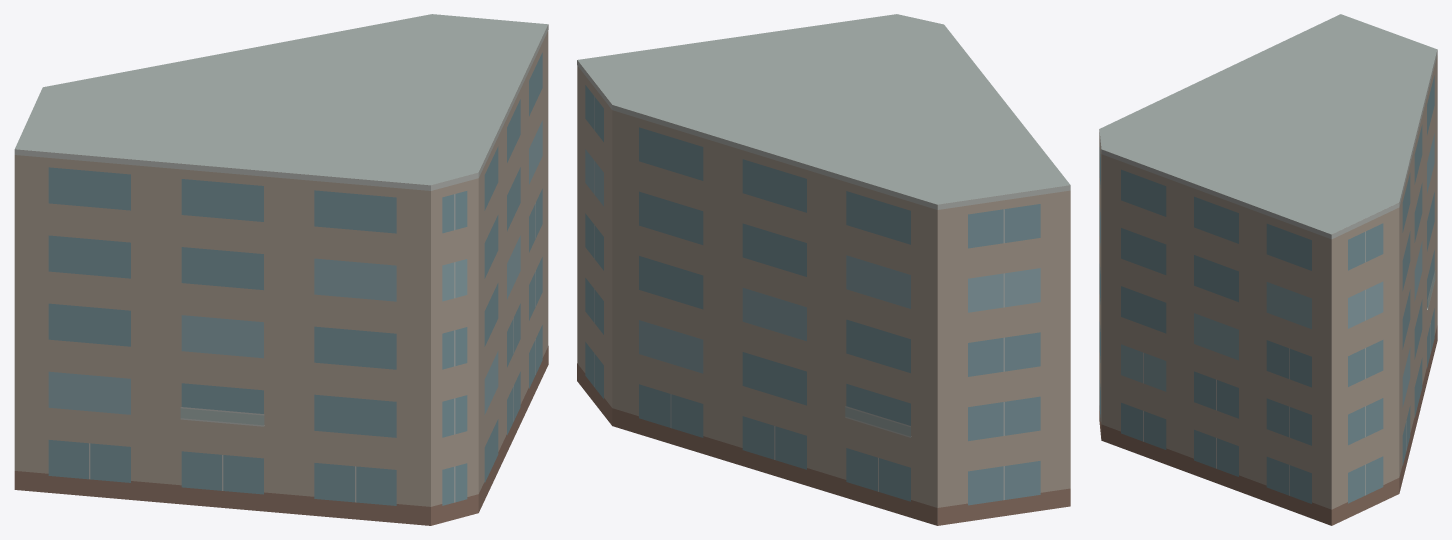
File: survey-upis-32947188.glb
3 renders of one model, left to right at view 1: azimuth 30°, elevation 25°; view 2: azimuth 150°, elevation 25°; view 3: azimuth 270°, elevation 25°, orthographic. The views are drawn at different scales.
Visible parts, largest first — view 1: survey-upis-32947188.tmp; view 2: survey-upis-32947188.tmp; view 3: survey-upis-32947188.tmp.
Part boxes in pixels (<box>): survey-upis-32947188.tmp: <box>14,14,548,525</box>; survey-upis-32947188.tmp: <box>577,14,1070,525</box>; survey-upis-32947188.tmp: <box>1099,14,1437,525</box>.
Size of the model in its own units: 23.88 by 14.7 by 15.47.
